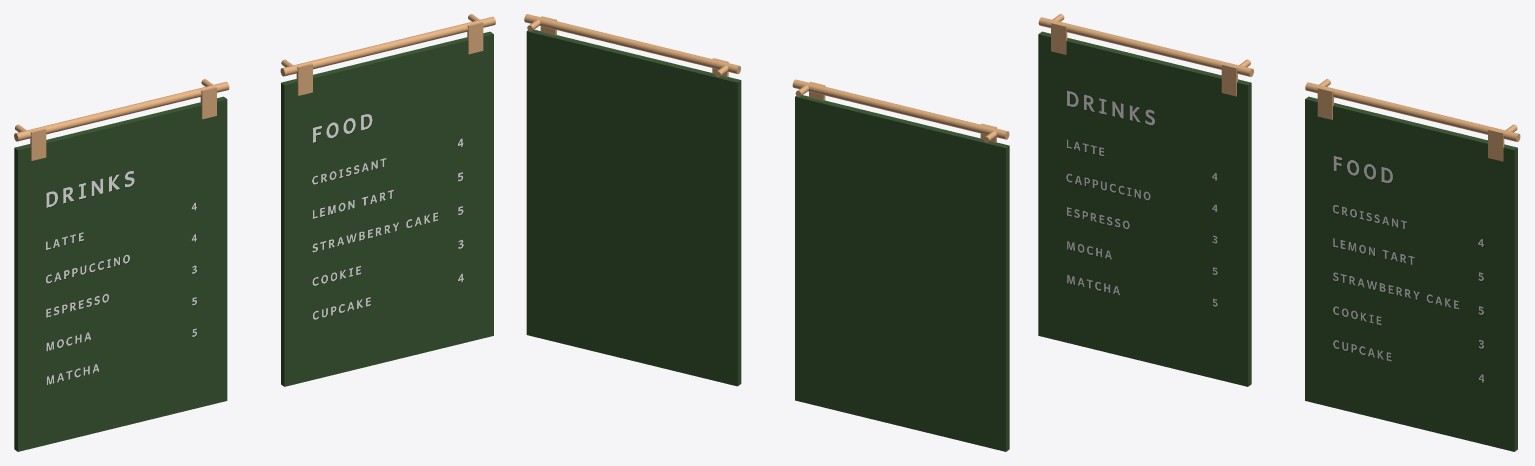
The model's file is menu.fbx.
The picture shows the model from 3 angles, left to right: view 1: azimuth 30°, elevation 25°; view 2: azimuth 150°, elevation 25°; view 3: azimuth 330°, elevation 25°; orthographic projection.
Parts seen in each view (by area): view 1: sign 1, sign, Cylinder, Cylinder.003, Cube.003, Cube.005, Cube.004, Cube.001; view 2: sign, sign 1, Cylinder.003, Cylinder; view 3: sign 1, sign, Cylinder.003, Cylinder, Cube.004, Cube.001, Cube.003, Cube.005.
Boxes of the visible parts, x1=… form: sign 1: x1=14, y1=96, x2=227, y2=451; sign: x1=281, y1=31, x2=493, y2=386; Cylinder: x1=14, y1=81, x2=229, y2=141; Cylinder.003: x1=280, y1=16, x2=495, y2=76; Cube.003: x1=30, y1=128, x2=46, y2=160; Cube.005: x1=467, y1=21, x2=483, y2=54; Cube.004: x1=200, y1=86, x2=216, y2=119; Cube.001: x1=296, y1=63, x2=312, y2=95; sign: x1=526, y1=29, x2=741, y2=386; sign 1: x1=795, y1=95, x2=1009, y2=451; Cylinder.003: x1=524, y1=14, x2=740, y2=74; Cylinder: x1=792, y1=79, x2=1009, y2=139; sign 1: x1=1038, y1=31, x2=1251, y2=386; sign: x1=1305, y1=96, x2=1517, y2=451; Cylinder.003: x1=1305, y1=82, x2=1520, y2=141; Cylinder: x1=1038, y1=17, x2=1253, y2=76; Cube.004: x1=1221, y1=63, x2=1237, y2=96; Cube.001: x1=1317, y1=87, x2=1333, y2=119; Cube.003: x1=1051, y1=22, x2=1067, y2=54; Cube.005: x1=1488, y1=129, x2=1504, y2=161.
Bounding box in the file's own units: 543 × 344 × 24.05.
